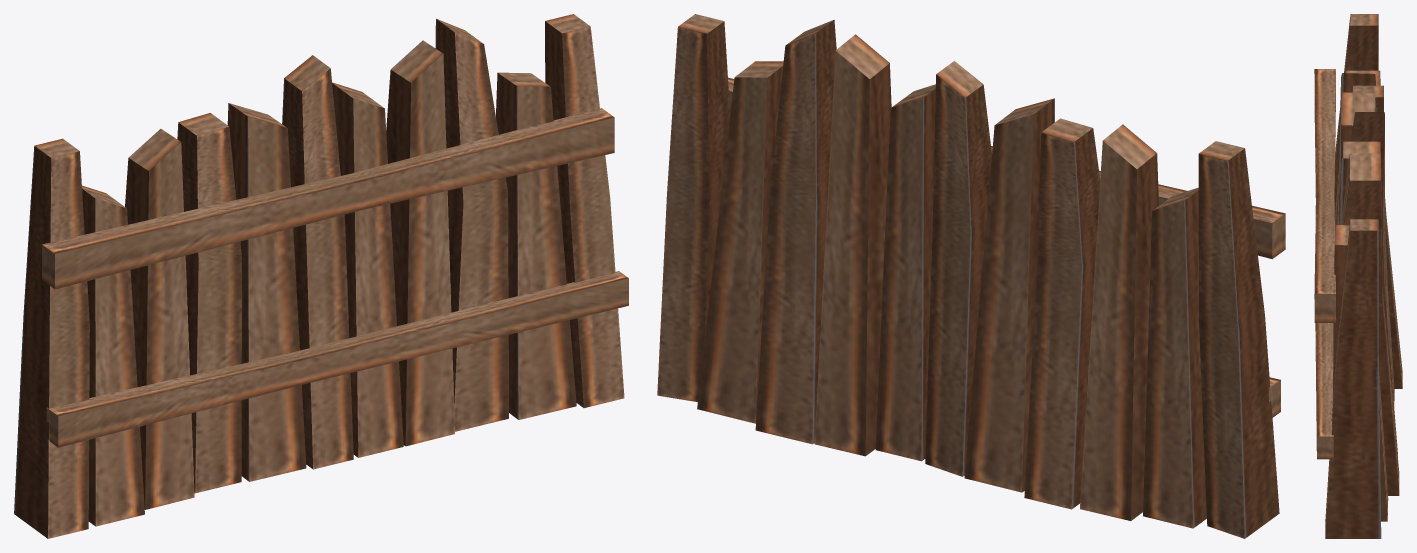
Rendered from FH_Env_Door_02.FBX.
3 renders of one model, left to right at view 1: azimuth 30°, elevation 25°; view 2: azimuth 150°, elevation 25°; view 3: azimuth 270°, elevation 25°, orthographic. The views are drawn at different scales.
Visible parts, largest first — view 1: Object06; view 2: Object06; view 3: Object06.
Boxes of the visible parts, x1=… form: Object06: x1=14, y1=14, x2=628, y2=538; Object06: x1=657, y1=14, x2=1285, y2=538; Object06: x1=1314, y1=14, x2=1402, y2=538.
Size of the model in its own units: 5.26 by 3.43 by 0.8449.
